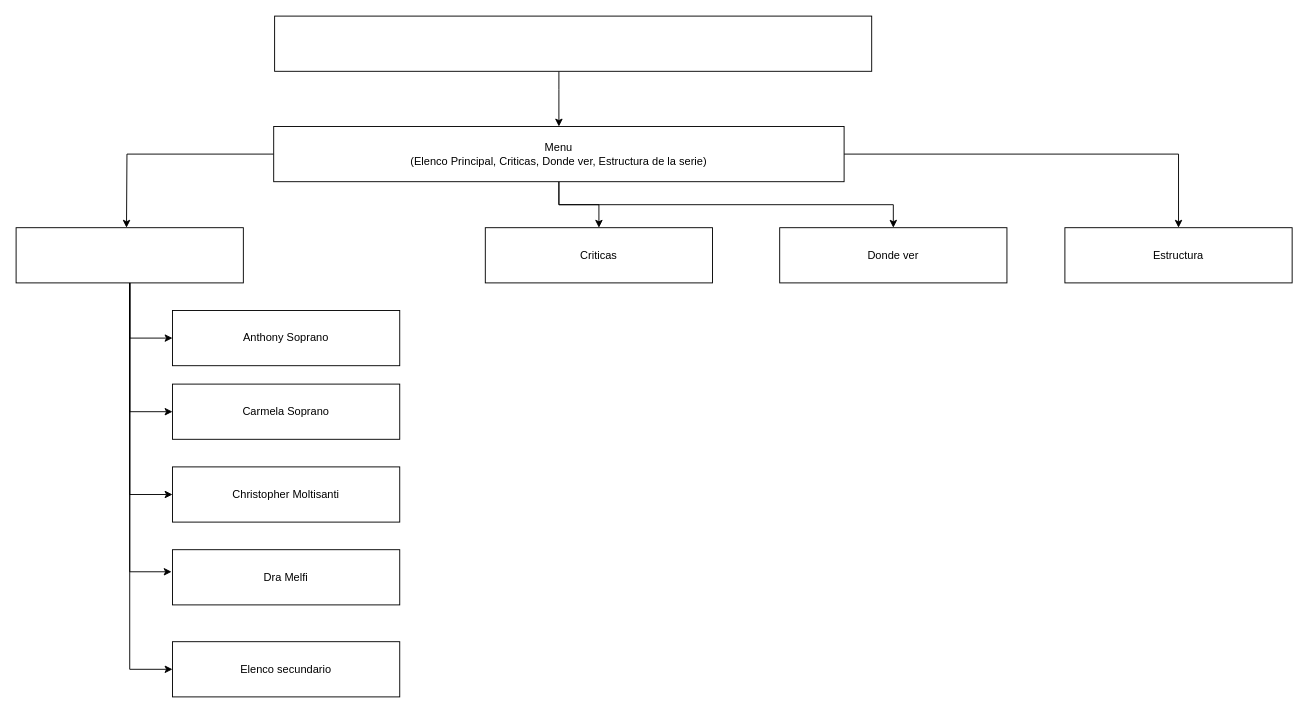
This 1308x713 diagram has some shape labels left out. The centre of each missing label's shape, as x and y in pixels:
Elenco Principal: the point at 129,255
Inicio (Titulo, argumento, escritor, elenco): the point at 573,43
